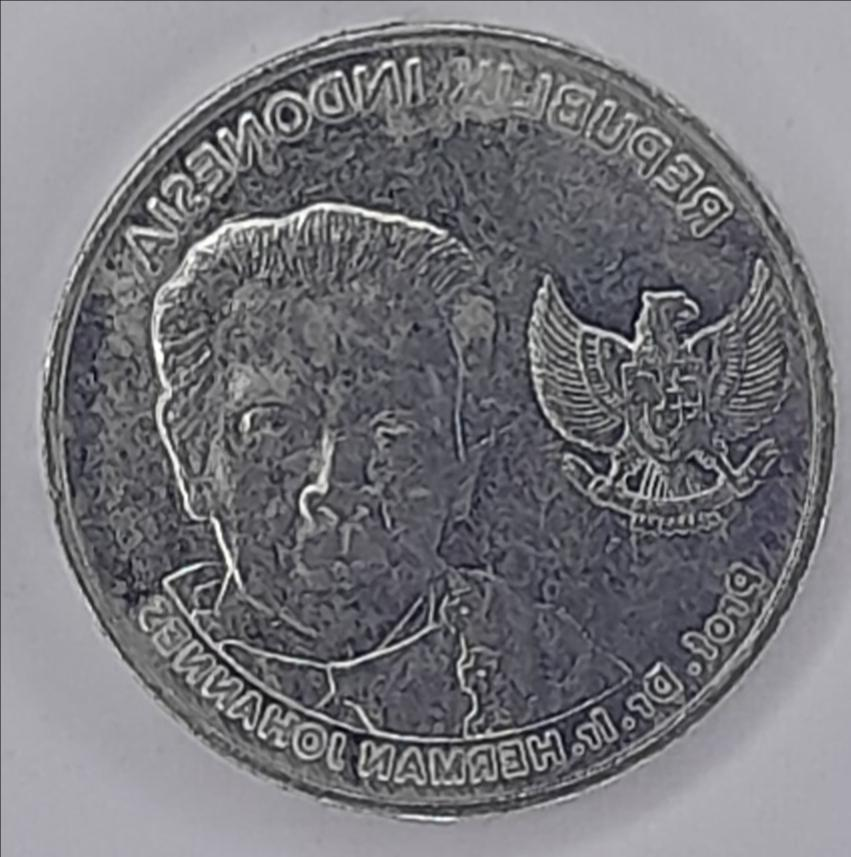coin_100_e2016: (34, 16, 843, 824)
